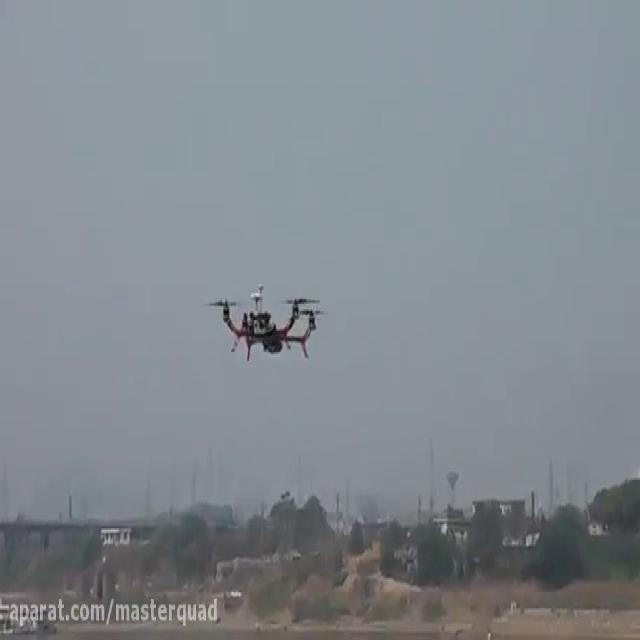drone: (199, 279, 332, 363)
